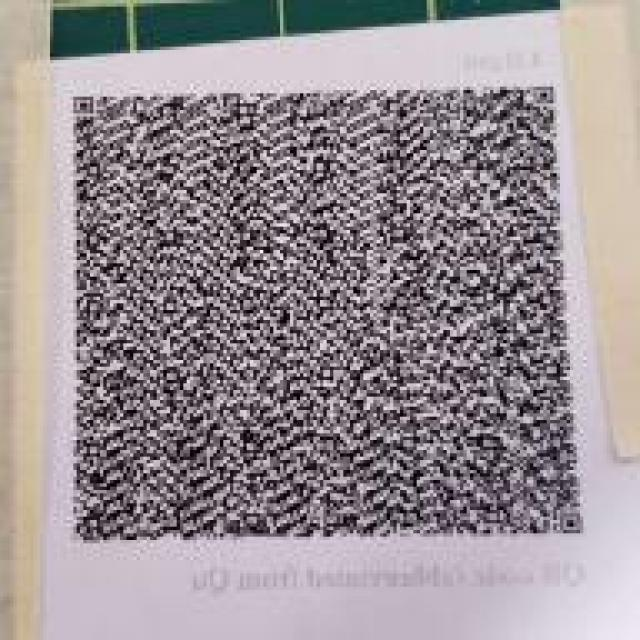QR_CODE: (31, 50, 596, 563)
